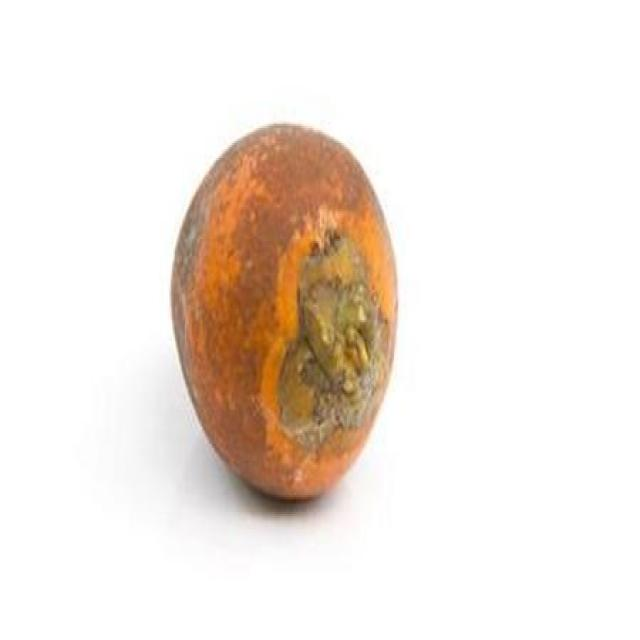good: (169, 124, 400, 503)
